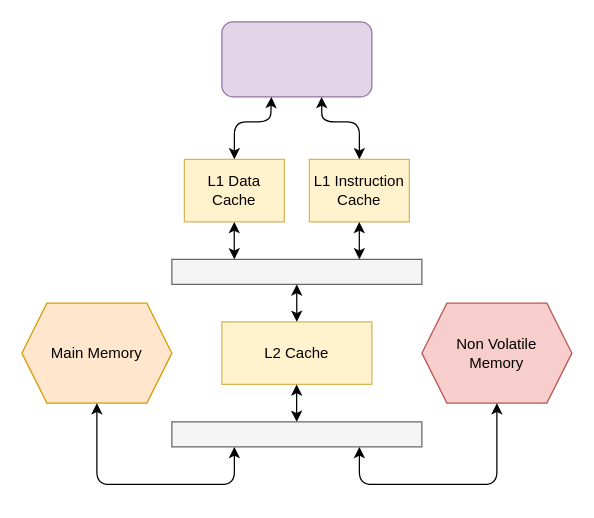
This 594x518 diagram has some shape labels left out. Each missing label, with the centre of its shape:
CPU: pixel 296 59
L2 Bus: pixel 296 271
Memory Bus: pixel 296 434
